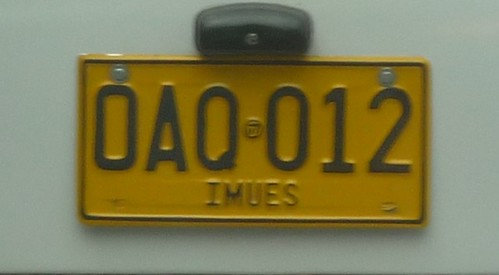placa_carro: (68, 43, 444, 245)
